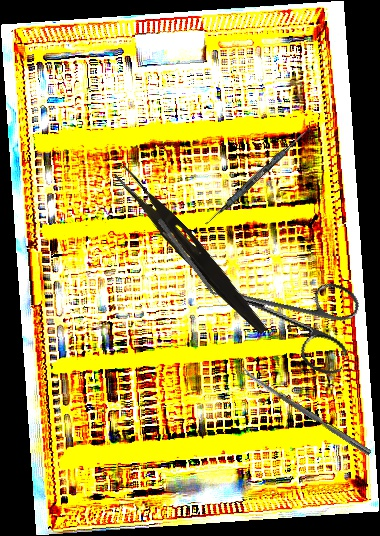Dressing Forceps: (107, 163, 276, 338)
Iris Scissors: (197, 248, 366, 378)
Pusher: (156, 217, 226, 311)
Spatula Surgical: (204, 123, 313, 229)
Surgical Spoon: (237, 365, 373, 456)
